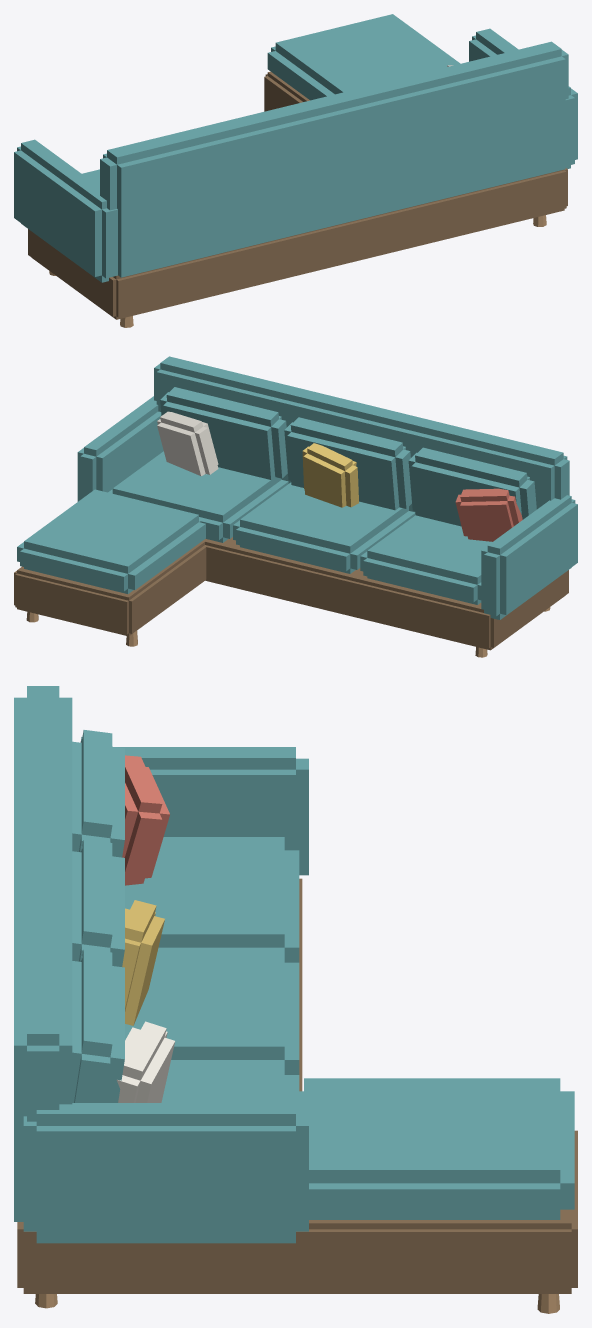
The model's file is Interior_TurkishSofaL.fbx.
3 renders of one model, top to bottom at view 1: azimuth 30°, elevation 25°; view 2: azimuth 150°, elevation 25°; view 3: azimuth 270°, elevation 25°, orthographic. The views are drawn at different scales.
Visible parts, largest first — view 1: Interior_TurkishSofaL; view 2: Interior_TurkishSofaL; view 3: Interior_TurkishSofaL.
Part boxes in pixels (left/top/right/bottom): Interior_TurkishSofaL: left=14, top=14, right=577, bottom=327; Interior_TurkishSofaL: left=14, top=356, right=577, bottom=657; Interior_TurkishSofaL: left=14, top=686, right=577, bottom=1313.
Bounding box in the file's own units: 2.76 × 0.96 × 1.74.
